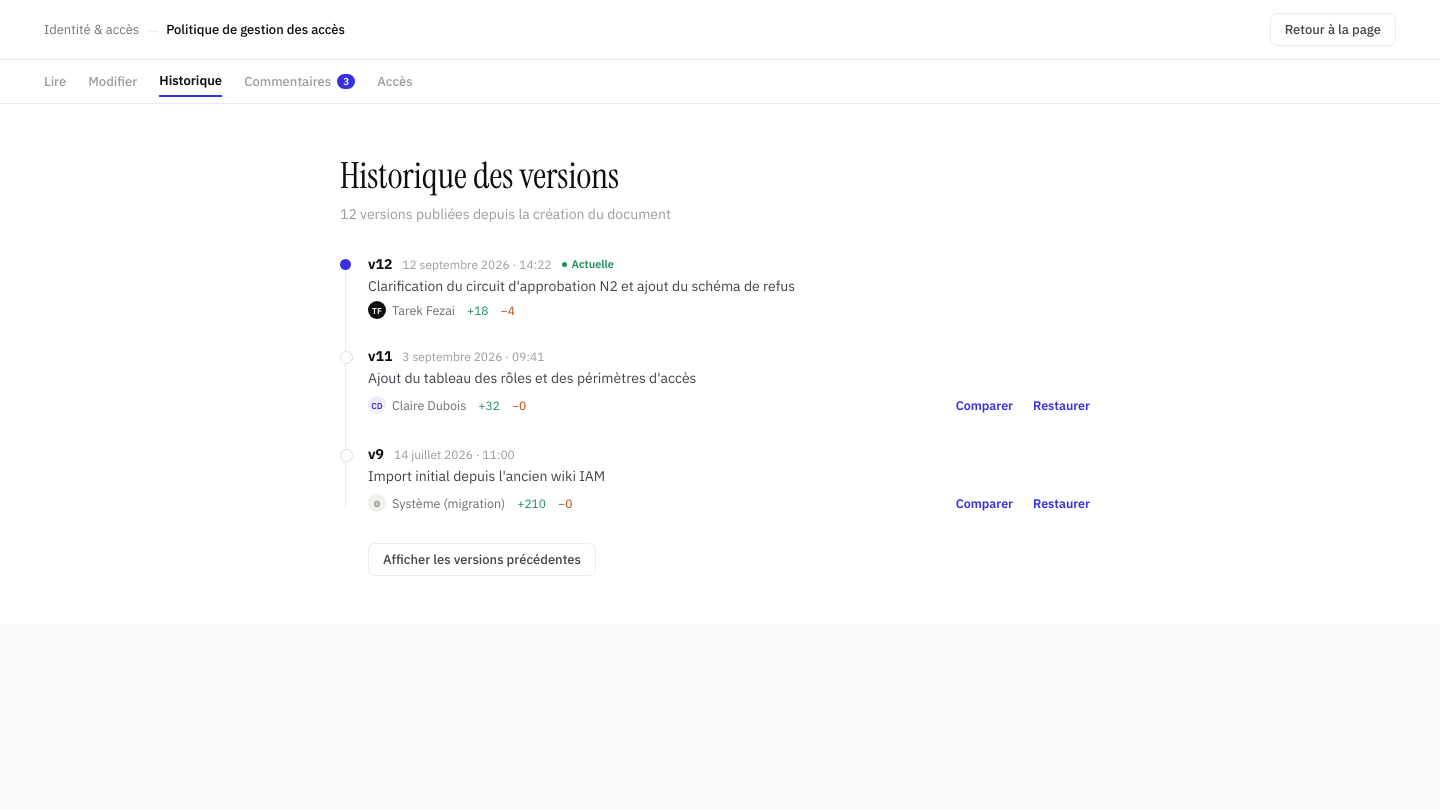
DocumentHistoryPage › échec de la restauration : content_invalid affiche le chemin du nœud
The width and height of the screenshot is (1440, 810).
Click the button "Restaurer" in the row of "+32" at (1062, 405), box [1023,393,1100,417]
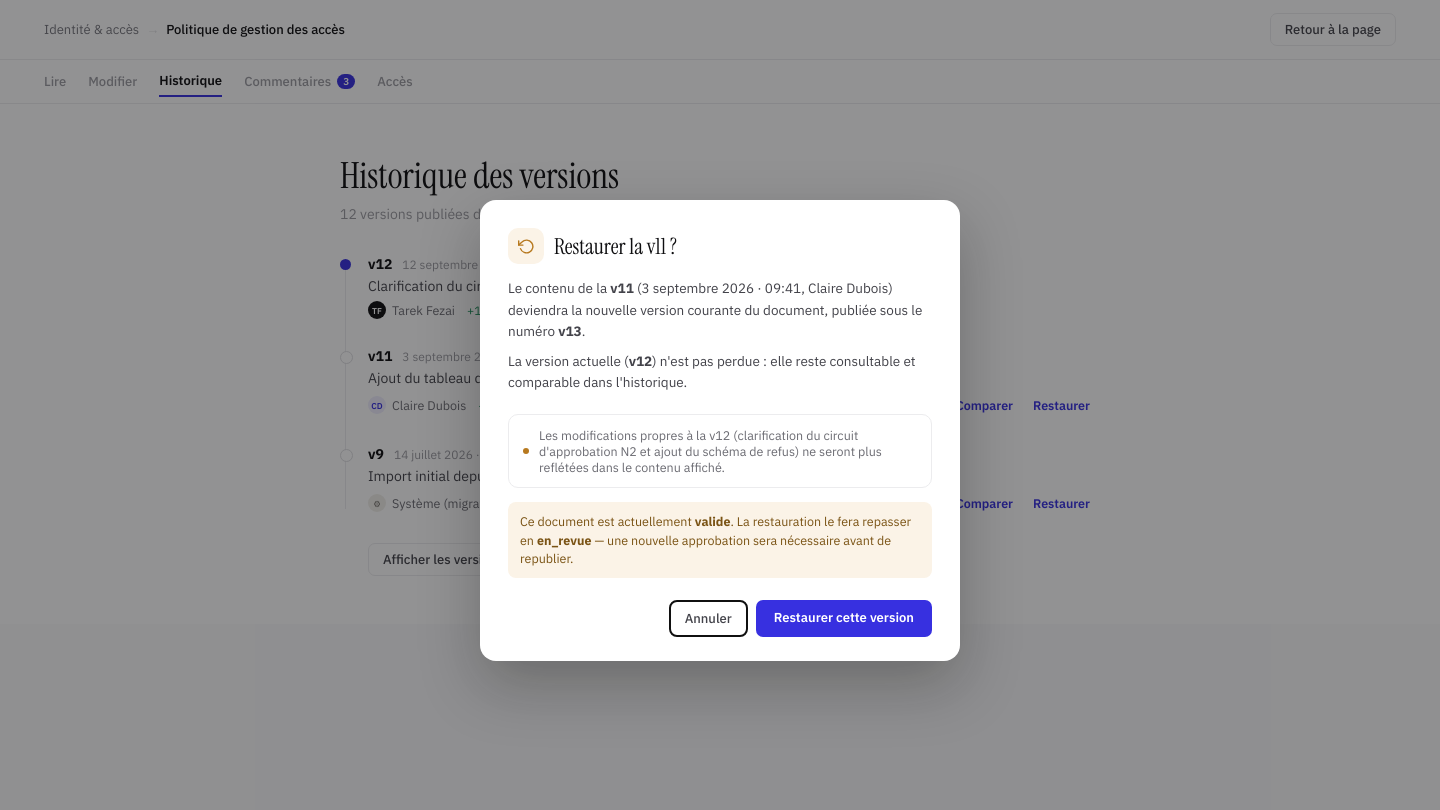
Click the button with test id "restore-confirm" at (844, 619), box [756,600,932,637]
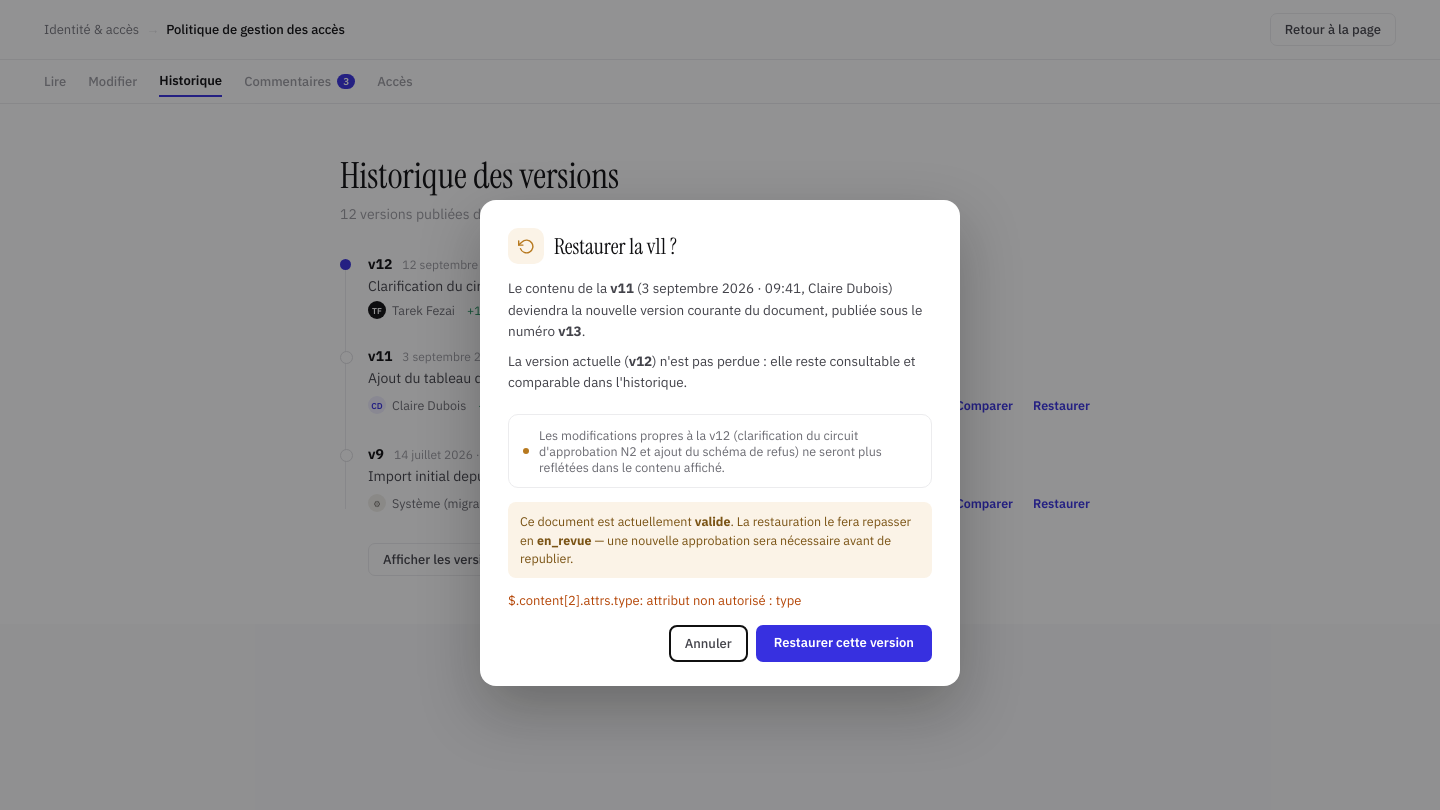
Expected: the dialog is shown, [480,200,960,686]
Expected: the message with test id "restore-error" shows "$.content[2].attrs.type", [508,592,801,609]
Expected: the message with test id "restore-error" shows "attribut non autorisé", [508,592,801,609]
